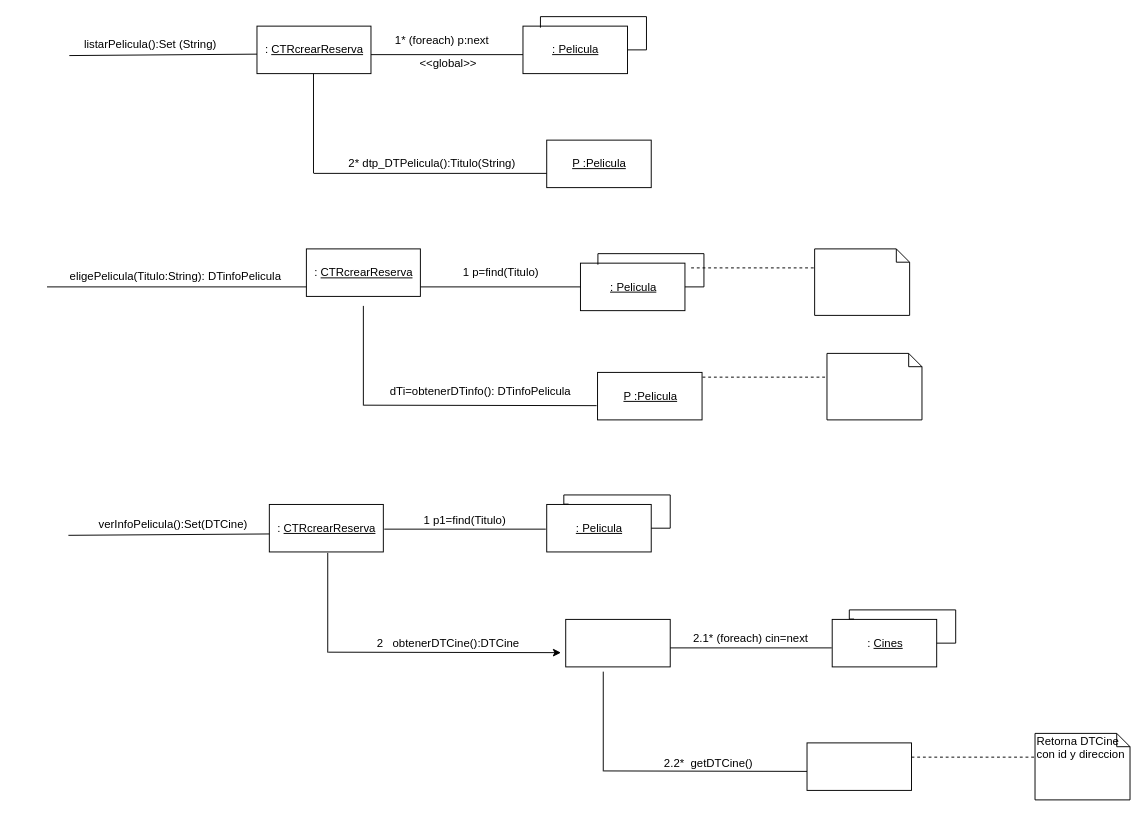
This 1147x817 diagram has some shape labels left out. Here are the shapes that lost their labels. From the top down, the box of each, then its label:
(814, 248, 910, 315): Guardo Pelicula seleccionada
(826, 352, 922, 420): Retorna DTinfoPelicula con sinopsis y poster
(565, 618, 670, 667): p1 : Pelicula
(806, 742, 912, 790): cin:Cines
